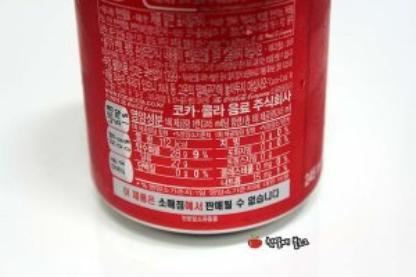Can: (73, 0, 333, 238)
